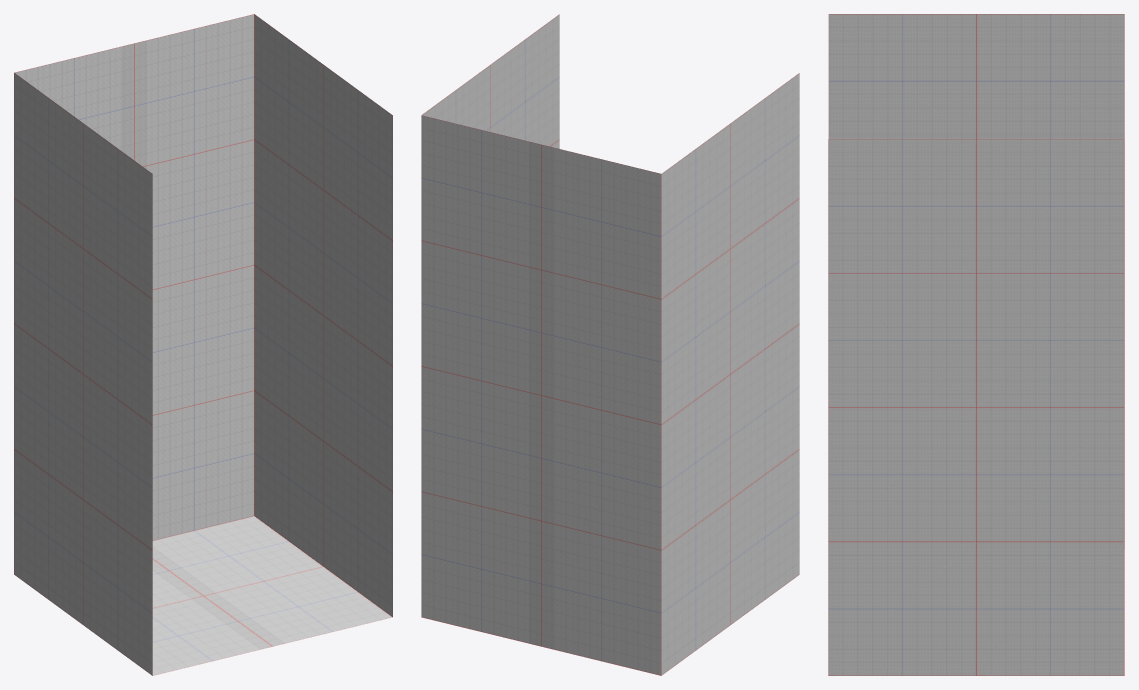
The model's file is model_open.dae.
The picture shows the model from 3 angles, left to right: view 1: azimuth 30°, elevation 25°; view 2: azimuth 150°, elevation 25°; view 3: azimuth 270°, elevation 25°; orthographic projection. The views are drawn at different scales.
Parts seen in each view (by area): view 1: bg_meshgroupShape; view 2: bg_meshgroupShape; view 3: bg_meshgroupShape.
Part boxes in pixels (x1=…): bg_meshgroupShape: x1=14, y1=14, x2=392, y2=675; bg_meshgroupShape: x1=421, y1=14, x2=799, y2=675; bg_meshgroupShape: x1=828, y1=14, x2=1124, y2=675.
Bounding box in the file's own units: 214 × 214 × 428.
1 material, 1 textured.
